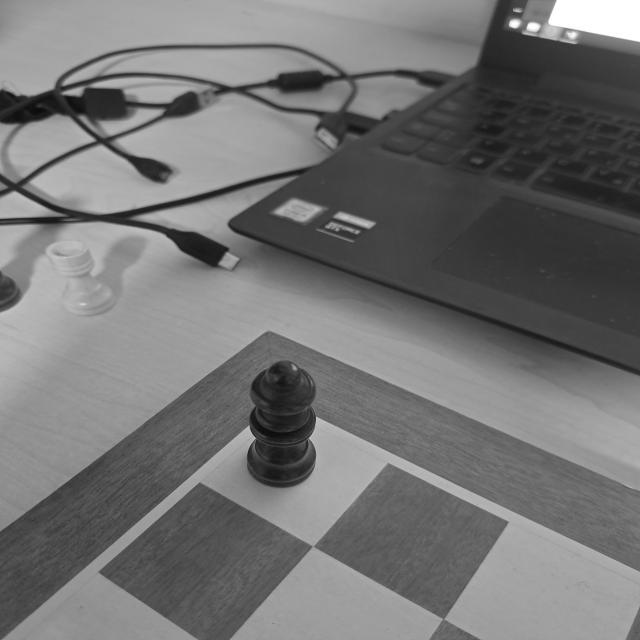chess-table-corners: (225, 398, 351, 447)
